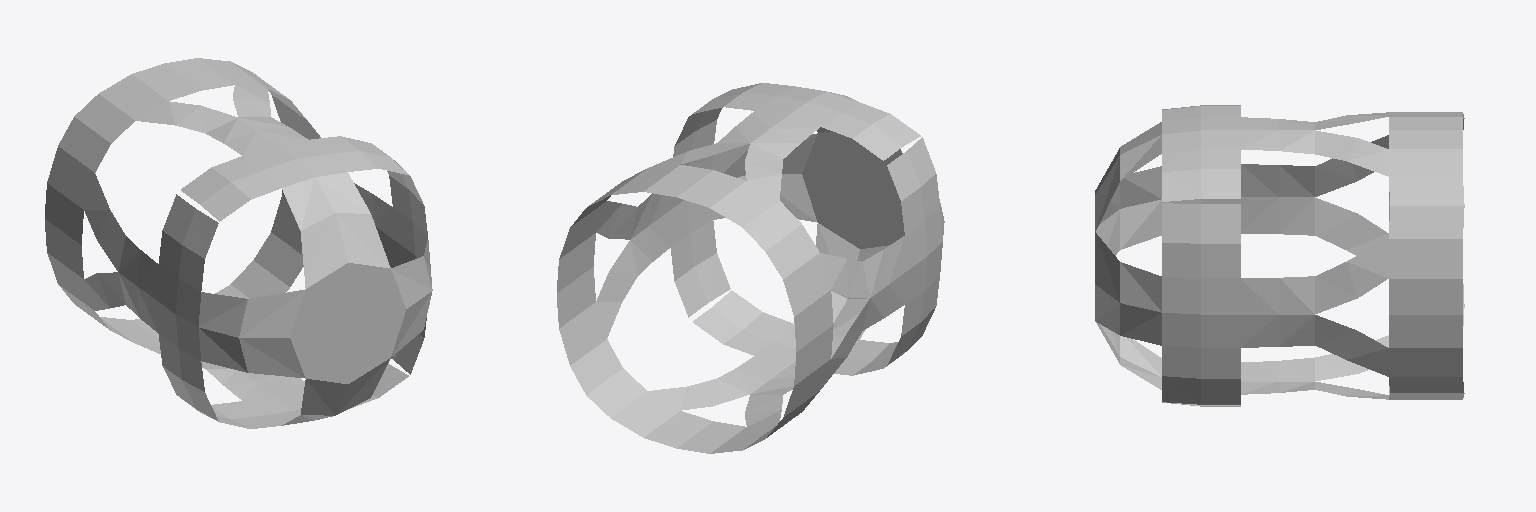
Rendered from lampC.obj.
3 renders of one model, left to right at view 1: azimuth 30°, elevation 25°; view 2: azimuth 150°, elevation 25°; view 3: azimuth 270°, elevation 25°, orthographic.
Parts seen in each view (by area): view 1: Plane_Plane.002; view 2: Plane_Plane.002; view 3: Plane_Plane.002.
Boxes of the visible parts, x1,y1,x2,y2 form: Plane_Plane.002: [45, 58, 432, 428]; Plane_Plane.002: [557, 83, 944, 453]; Plane_Plane.002: [1095, 105, 1464, 406].
Bounding box in the file's own units: 3.78 × 3.78 × 5.04.